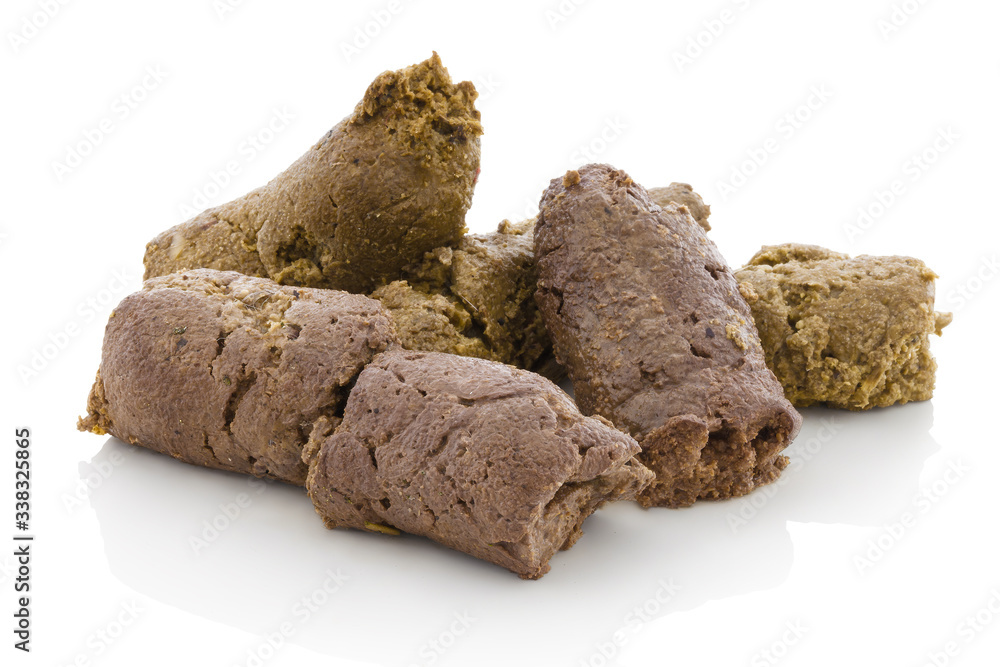Dog: (101, 63, 944, 567)
